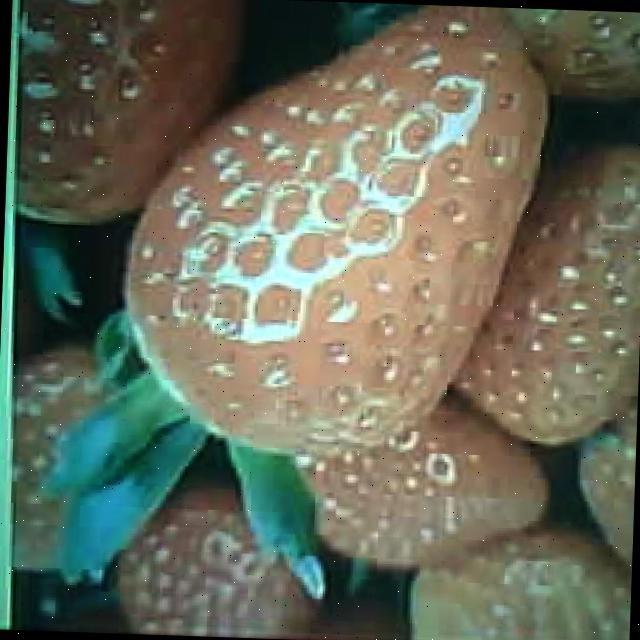strawberry: (119, 0, 548, 459)
